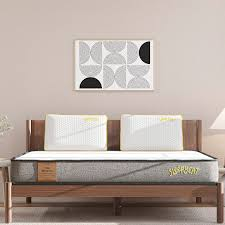bed-matress: (10, 148, 219, 184)
